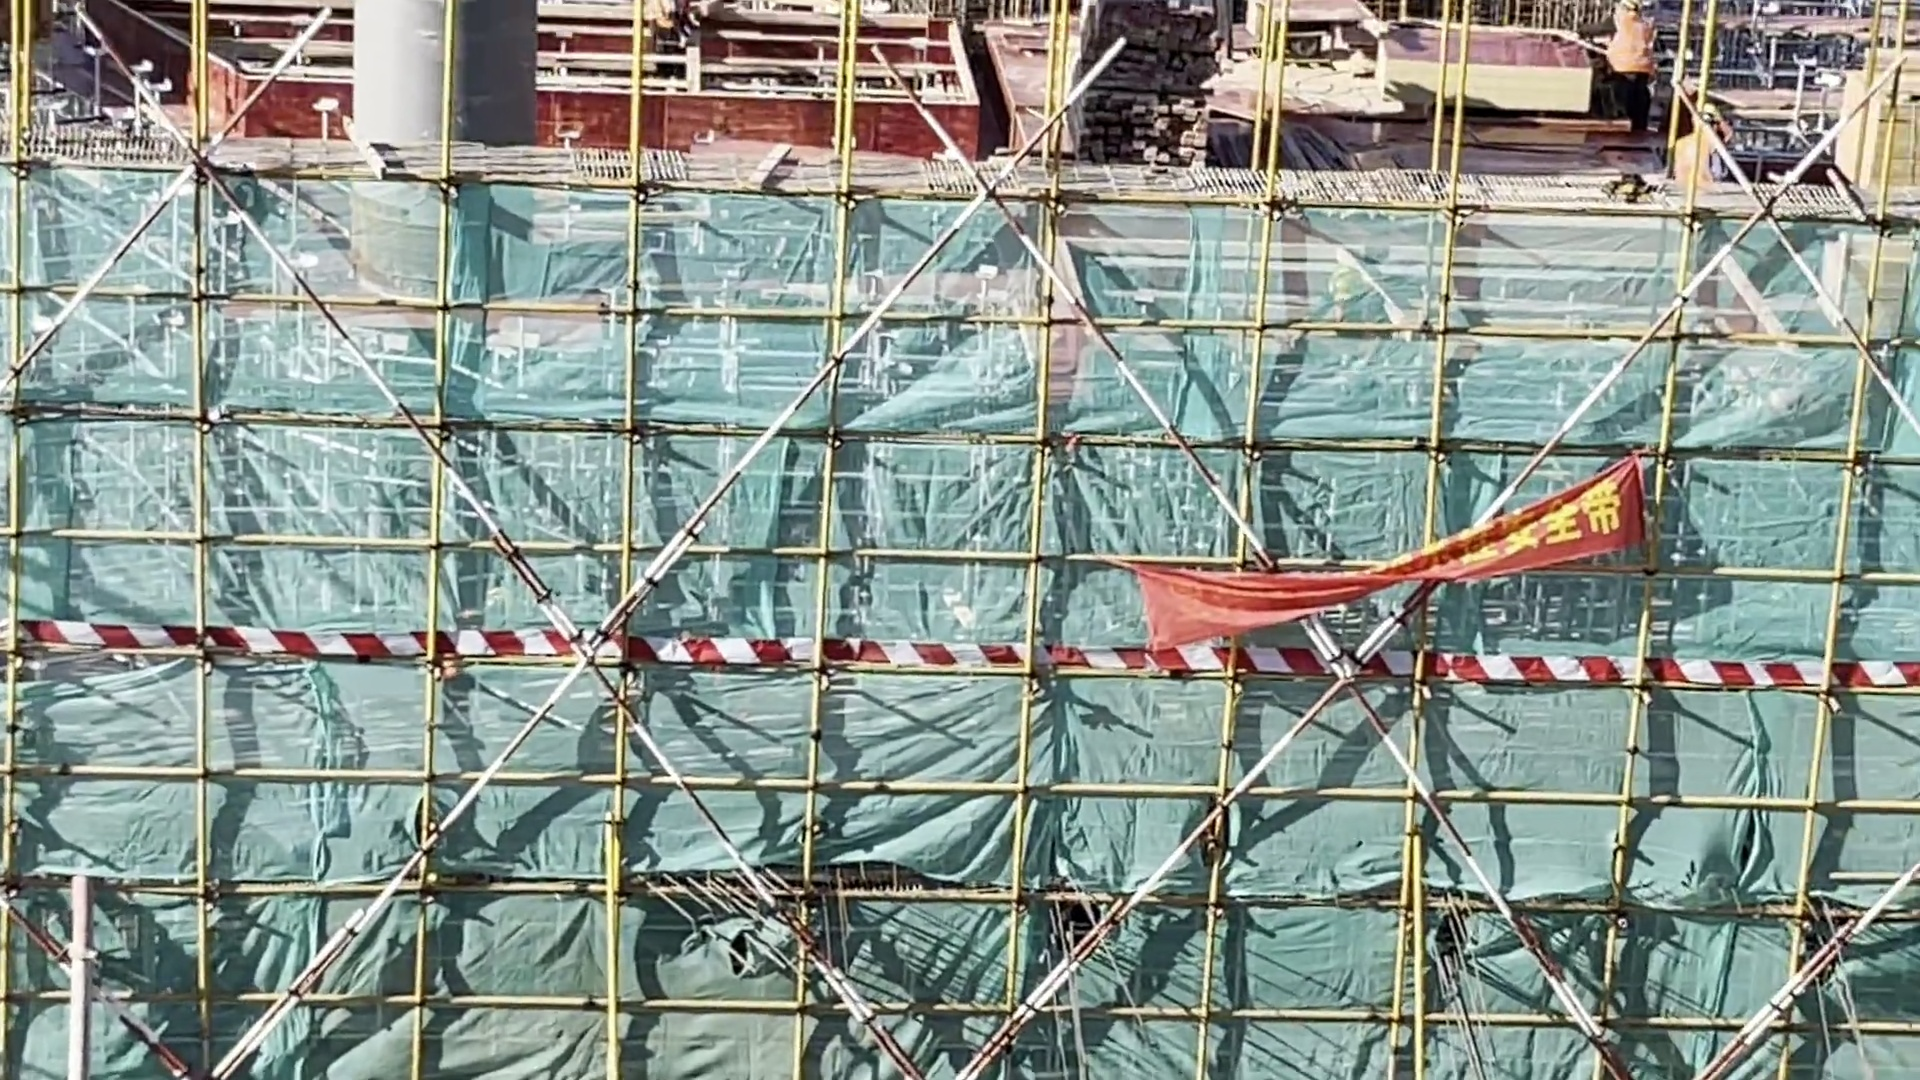person: (1586, 1, 1669, 148)
slogan: (1114, 445, 1662, 647)
vest: (1604, 1, 1662, 78)
wood: (1058, 1, 1225, 183), (1814, 31, 1920, 194)
